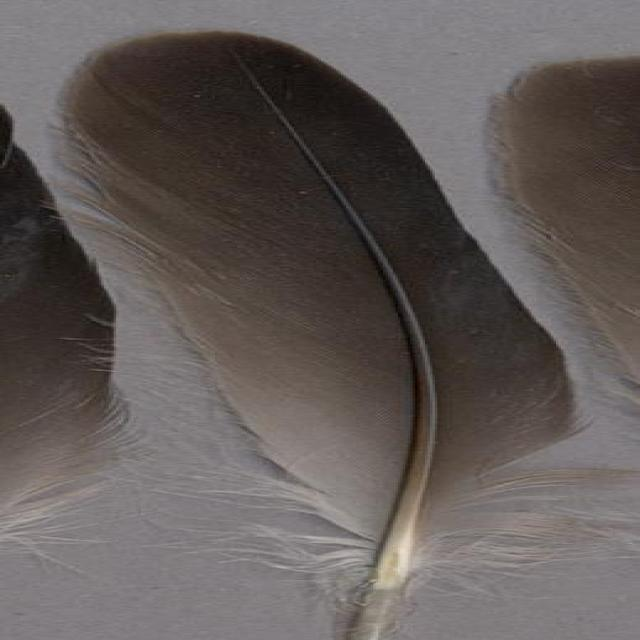feather: (56, 29, 595, 640)
